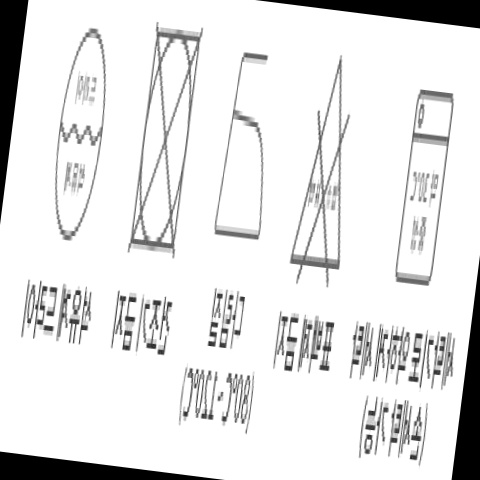30C: (384, 83, 465, 297)
DN_tumble_dry: (110, 12, 214, 268)
dry_clean_petrol_only: (30, 8, 126, 252)
iron: (203, 43, 295, 256)
non_chlorine_bleach: (277, 51, 370, 291)
